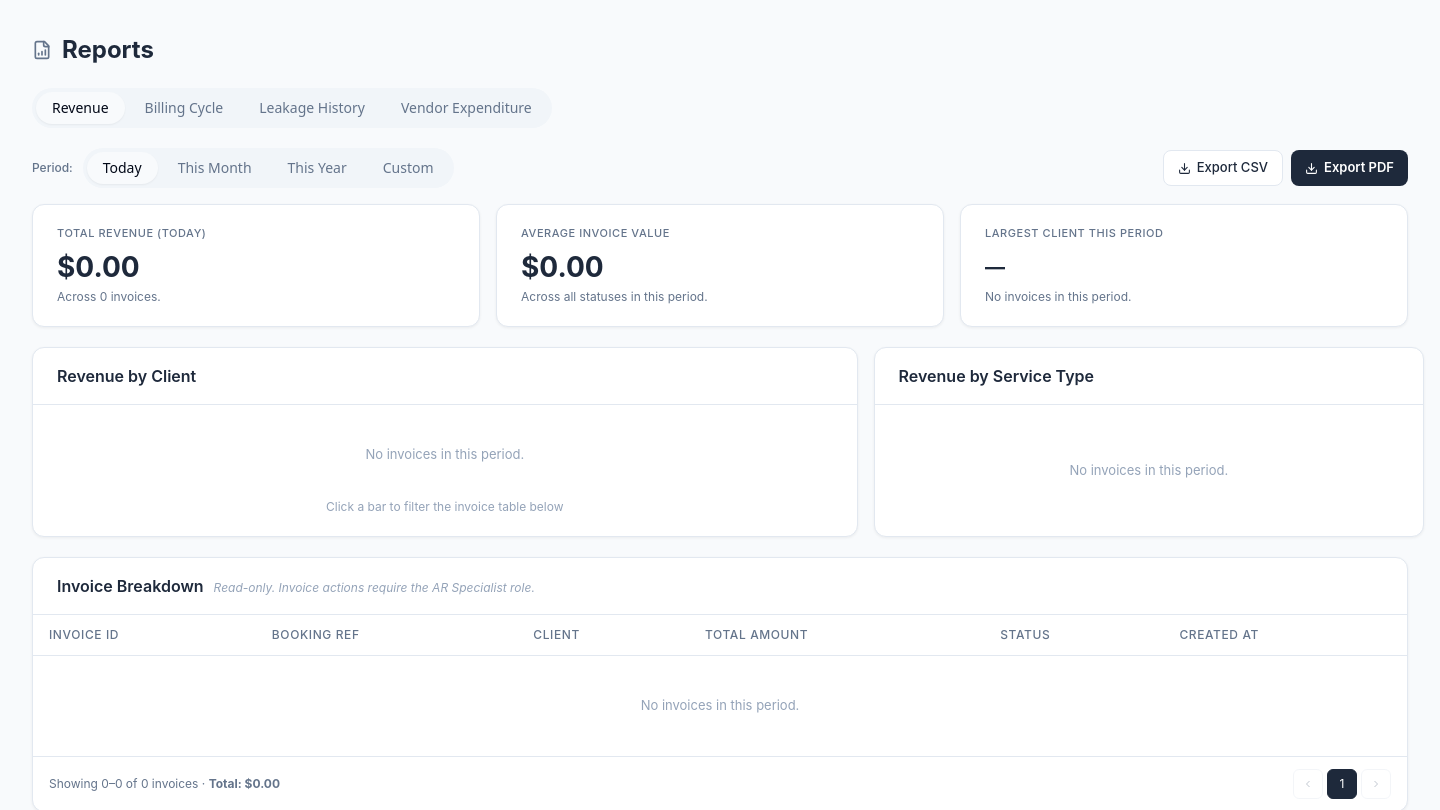
Billing Cycle tab renders the real overall average and the row from getCycleTime
This screenshot has width=1440, height=810.
Click the button "Billing Cycle": click(184, 108) [128, 92, 239, 124]
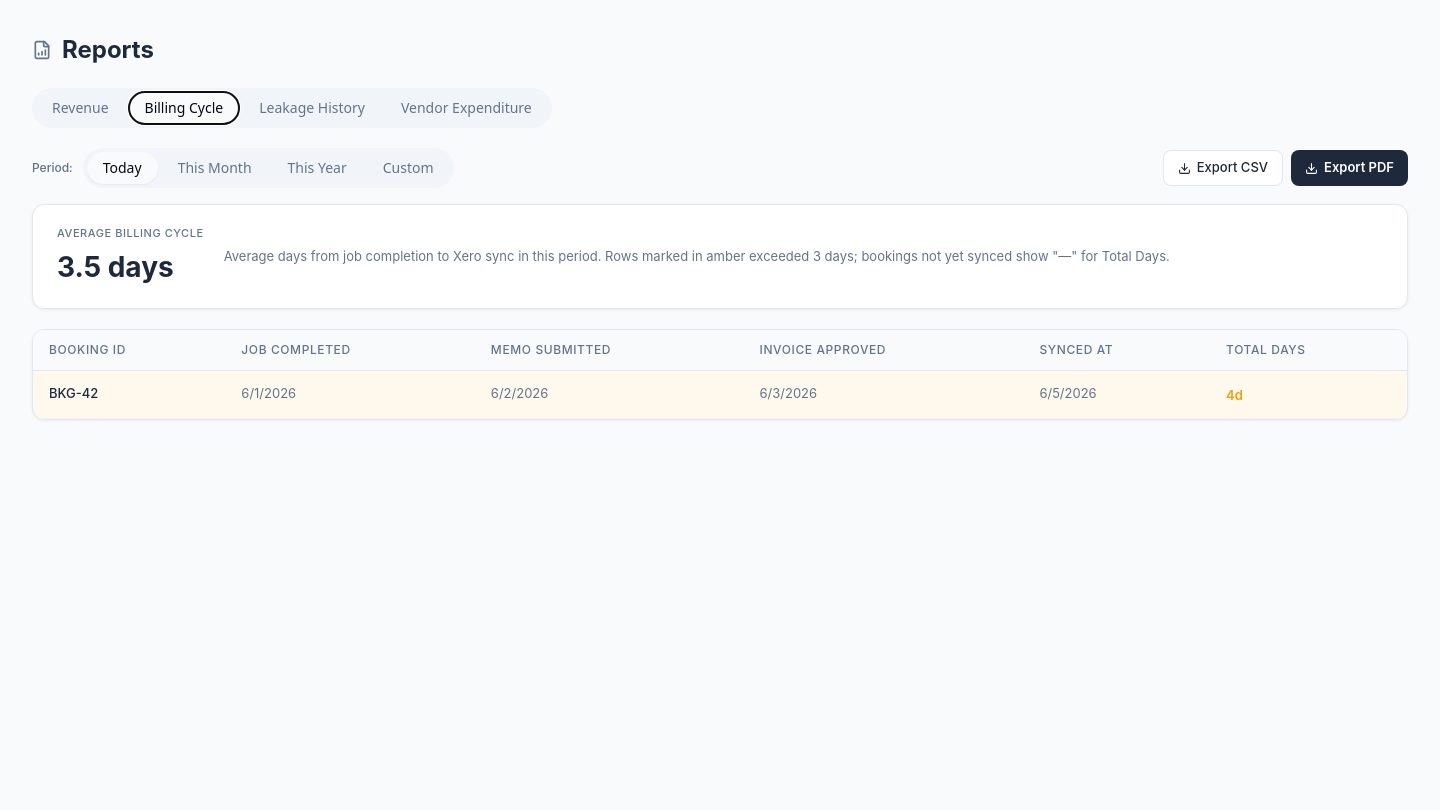
Result: the text "3.5 days" is shown at [57, 250, 174, 284]
Result: the text "BKG-42" is shown at [33, 370, 225, 418]
